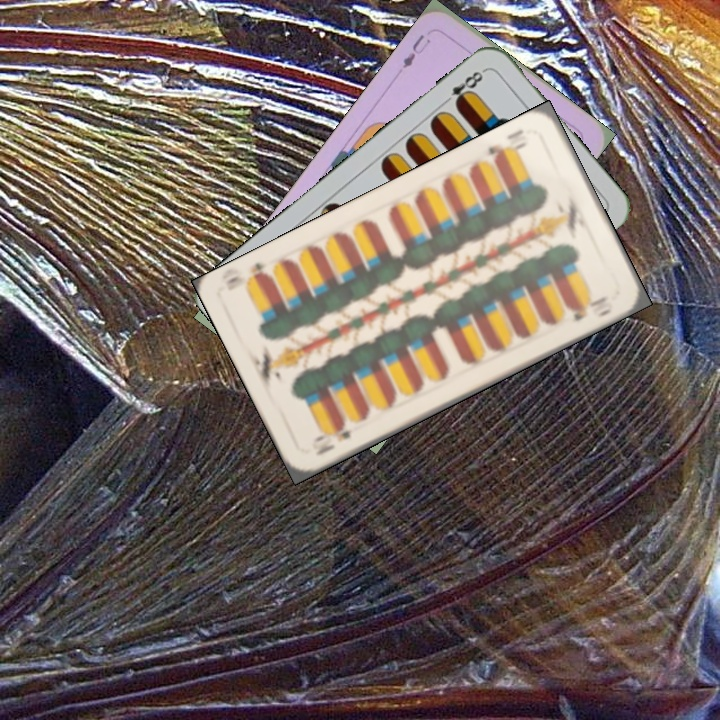E10: (308, 420, 356, 458), (483, 137, 530, 166)
E8: (438, 65, 488, 110)
EU: (398, 29, 433, 71)
